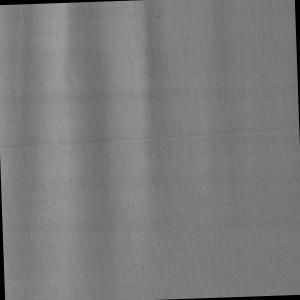Wrinkle: (1, 1, 181, 300), (191, 1, 273, 262)
